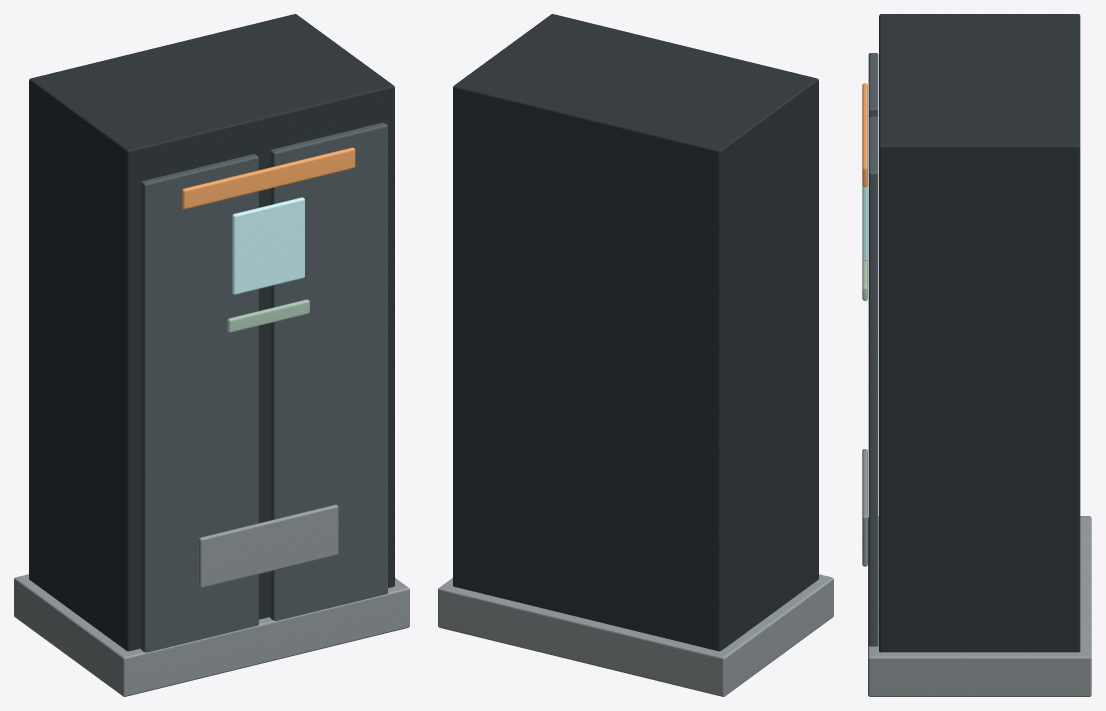
Rendered from HazmatSuitLocker.glb.
The picture shows the model from 3 angles, left to right: view 1: azimuth 30°, elevation 25°; view 2: azimuth 150°, elevation 25°; view 3: azimuth 270°, elevation 25°; orthographic projection.
Parts seen in each view (by area): view 1: HazmatSuitLocker_Mesh; view 2: HazmatSuitLocker_Mesh; view 3: HazmatSuitLocker_Mesh.
Boxes of the visible parts, bbox=[...] form: HazmatSuitLocker_Mesh: bbox=[14, 14, 409, 696]; HazmatSuitLocker_Mesh: bbox=[438, 14, 833, 696]; HazmatSuitLocker_Mesh: bbox=[862, 14, 1091, 696].
Bounding box in the file's own units: 1.2 × 2.16 × 0.82.
6 materials, 6 textured.
